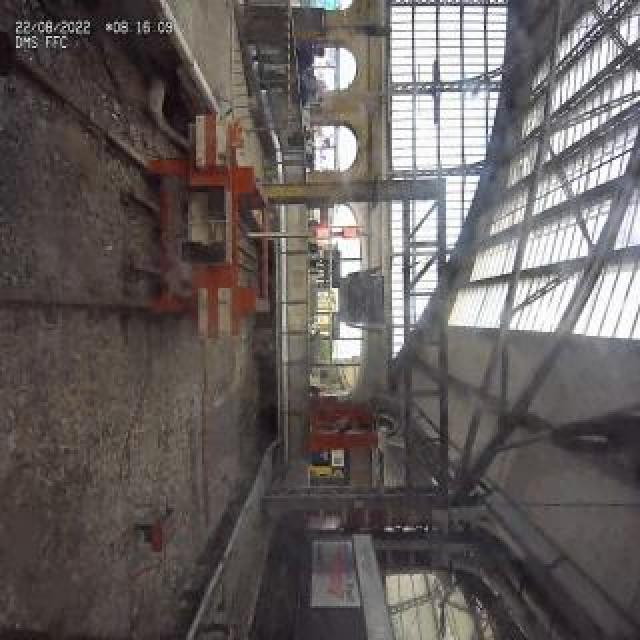rusted-track: (1, 273, 121, 317)
